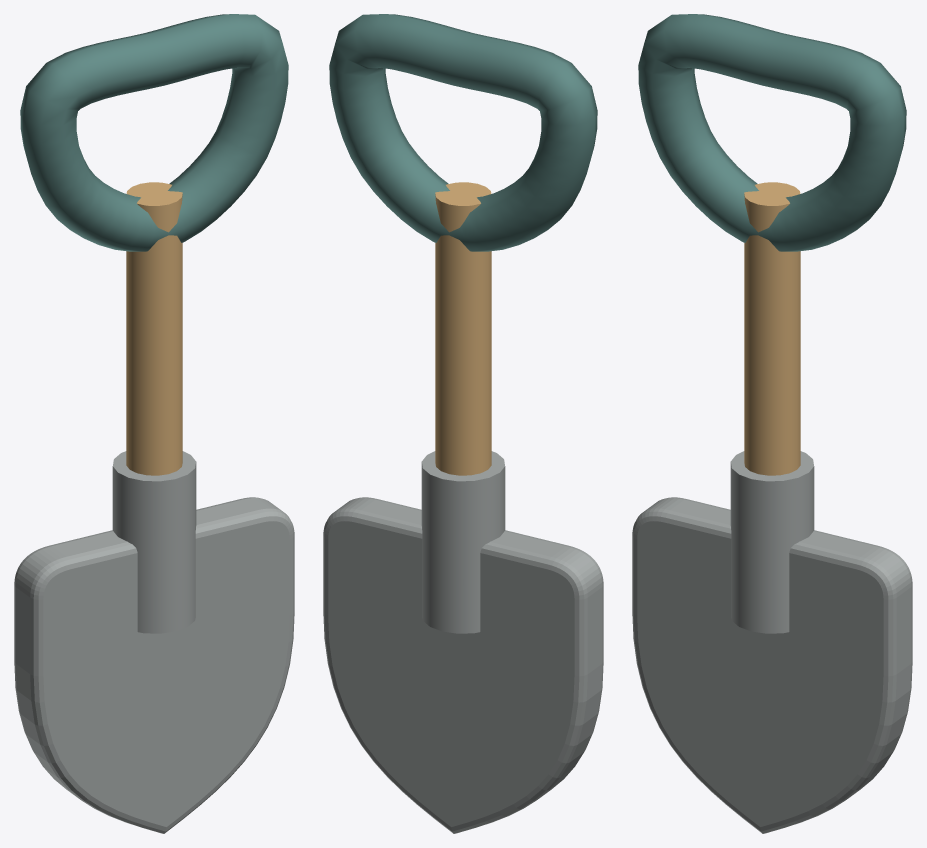
The model's file is shovel.glb.
3 renders of one model, left to right at view 1: azimuth 30°, elevation 25°; view 2: azimuth 150°, elevation 25°; view 3: azimuth 330°, elevation 25°, orthographic.
Parts seen in each view (by area): view 1: Shovel_blade, Shovel_D_grip, Shovel_shaft, Shovel_socket; view 2: Shovel_blade, Shovel_D_grip, Shovel_shaft, Shovel_socket; view 3: Shovel_blade, Shovel_D_grip, Shovel_shaft, Shovel_socket.
Boxes of the visible parts, x1=… form: Shovel_blade: x1=14, y1=497, x2=294, y2=833; Shovel_D_grip: x1=20, y1=14, x2=288, y2=251; Shovel_shaft: x1=126, y1=182, x2=182, y2=475; Shovel_socket: x1=112, y1=451, x2=196, y2=633; Shovel_blade: x1=323, y1=497, x2=603, y2=833; Shovel_D_grip: x1=329, y1=14, x2=597, y2=251; Shovel_shaft: x1=435, y1=182, x2=491, y2=475; Shovel_socket: x1=421, y1=451, x2=505, y2=633; Shovel_blade: x1=632, y1=497, x2=912, y2=833; Shovel_D_grip: x1=638, y1=14, x2=906, y2=251; Shovel_shaft: x1=744, y1=182, x2=800, y2=475; Shovel_socket: x1=730, y1=451, x2=814, y2=633.
Size of the model in its own units: 0.47 by 1.36 by 0.13.
